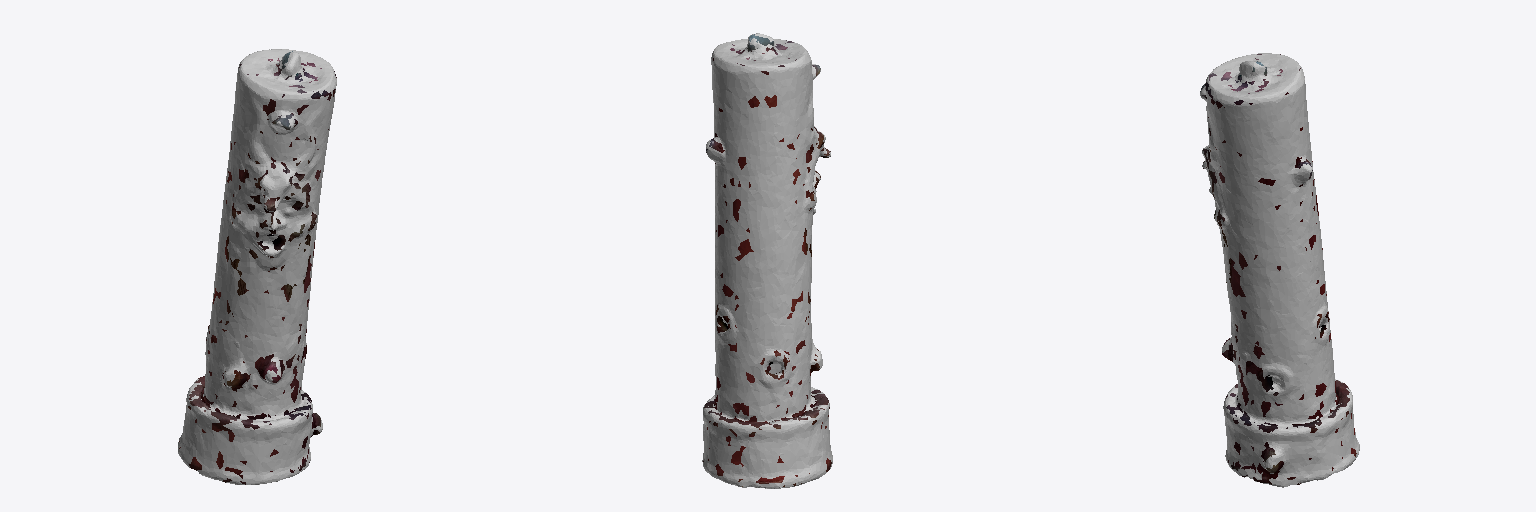
3 renders of one model, left to right at view 1: azimuth 30°, elevation 25°; view 2: azimuth 150°, elevation 25°; view 3: azimuth 270°, elevation 25°, orthographic.
Visible parts, largest first — view 1: quemador_mesh_lowpoly; view 2: quemador_mesh_lowpoly; view 3: quemador_mesh_lowpoly.
Part boxes in pixels (bbox=[...]): quemador_mesh_lowpoly: bbox=[178, 49, 336, 484]; quemador_mesh_lowpoly: bbox=[702, 33, 832, 488]; quemador_mesh_lowpoly: bbox=[1200, 53, 1359, 487].
Bounding box in the file's own units: 0.5996 × 1.89 × 0.6633.
4 materials, 2 textured.